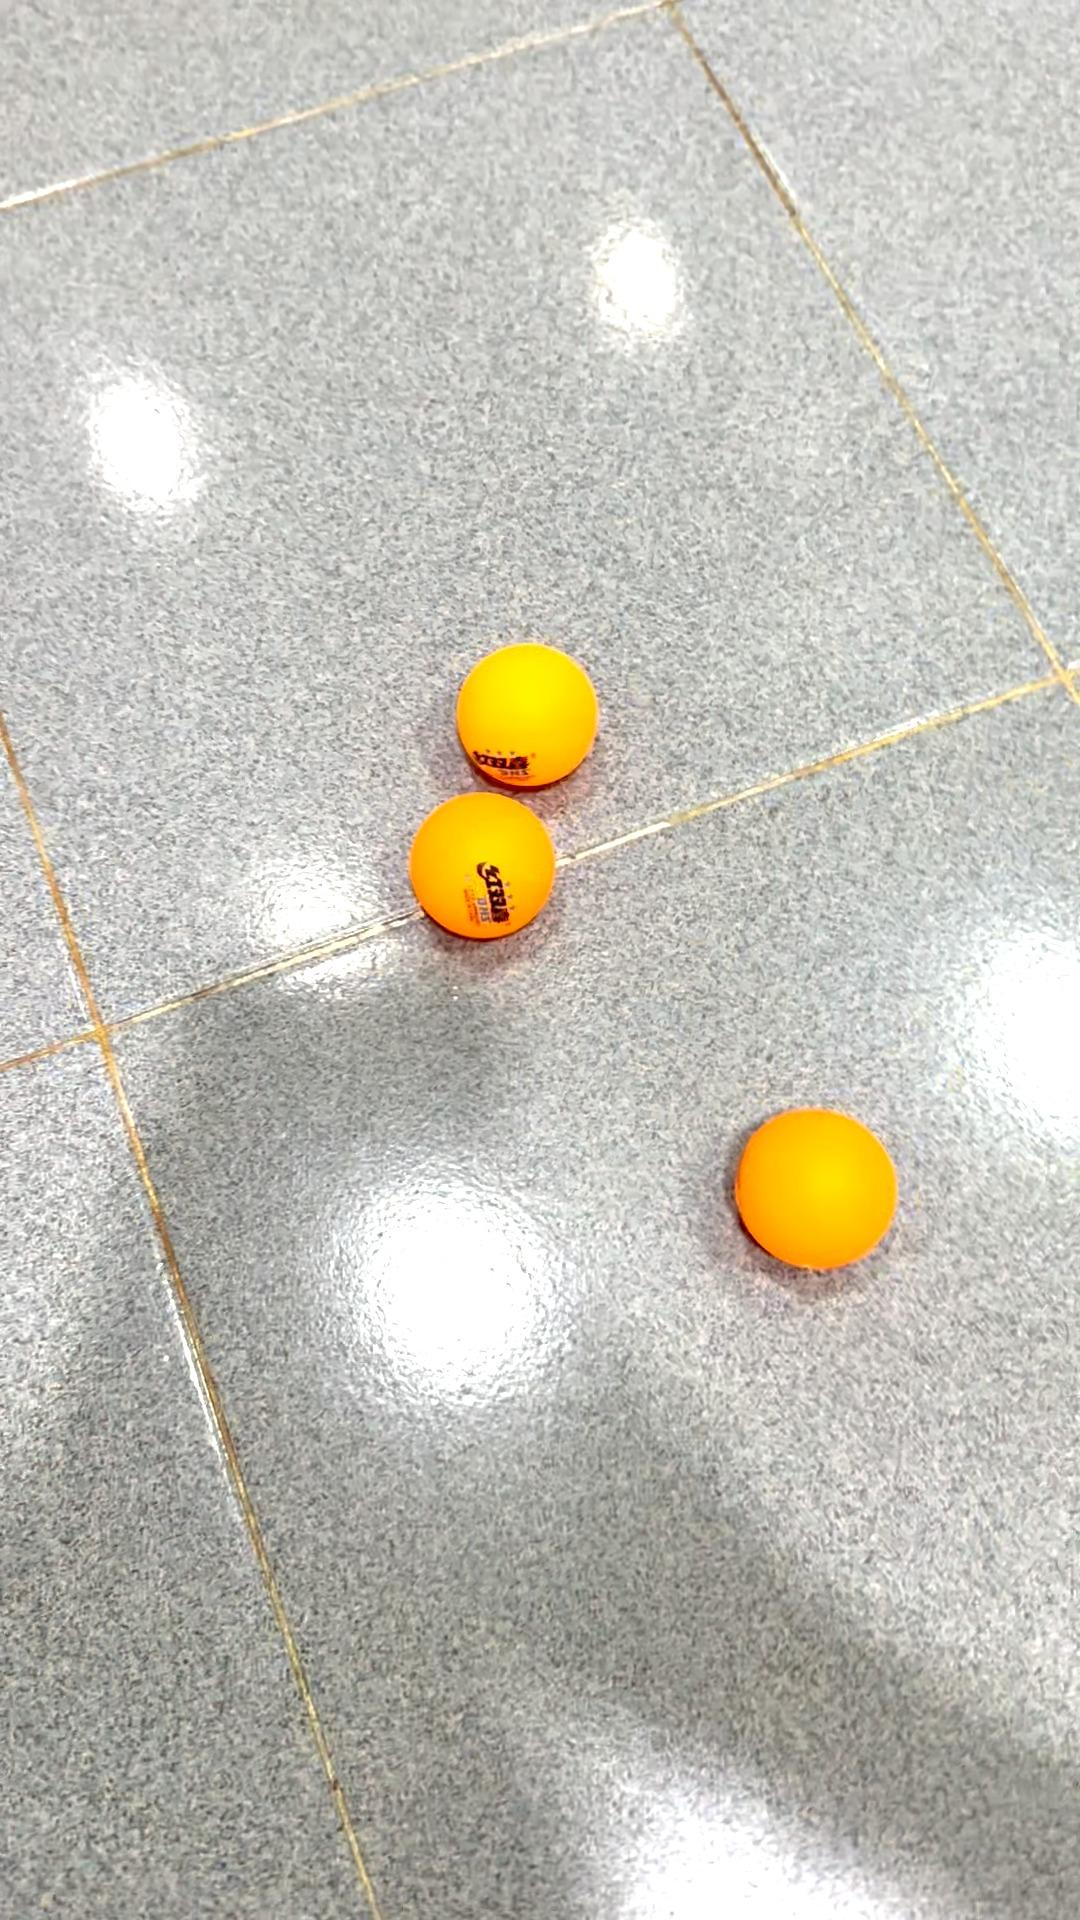oball: (716, 1101, 911, 1286), (406, 791, 564, 955), (442, 632, 597, 793)
